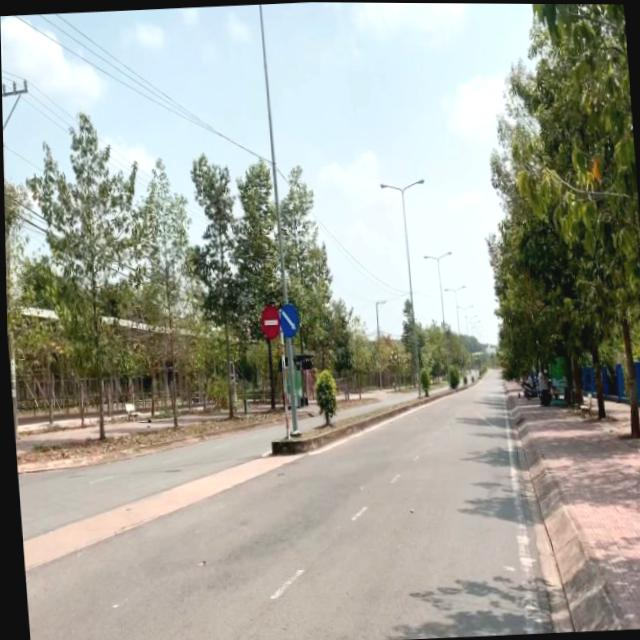Cam di nguoc chieu: (258, 303, 280, 341)
Vong chuong ngai vat sang phai: (277, 303, 299, 339)
